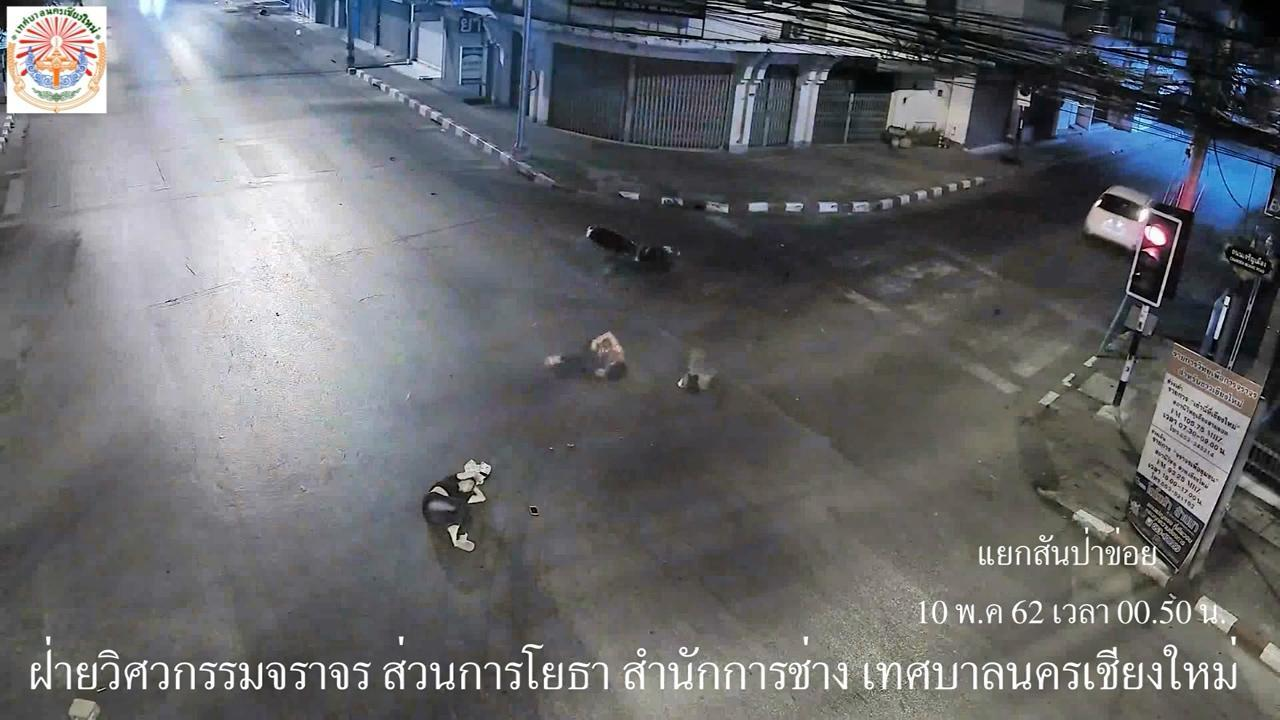accident: (423, 450, 494, 557), (543, 329, 632, 384)
